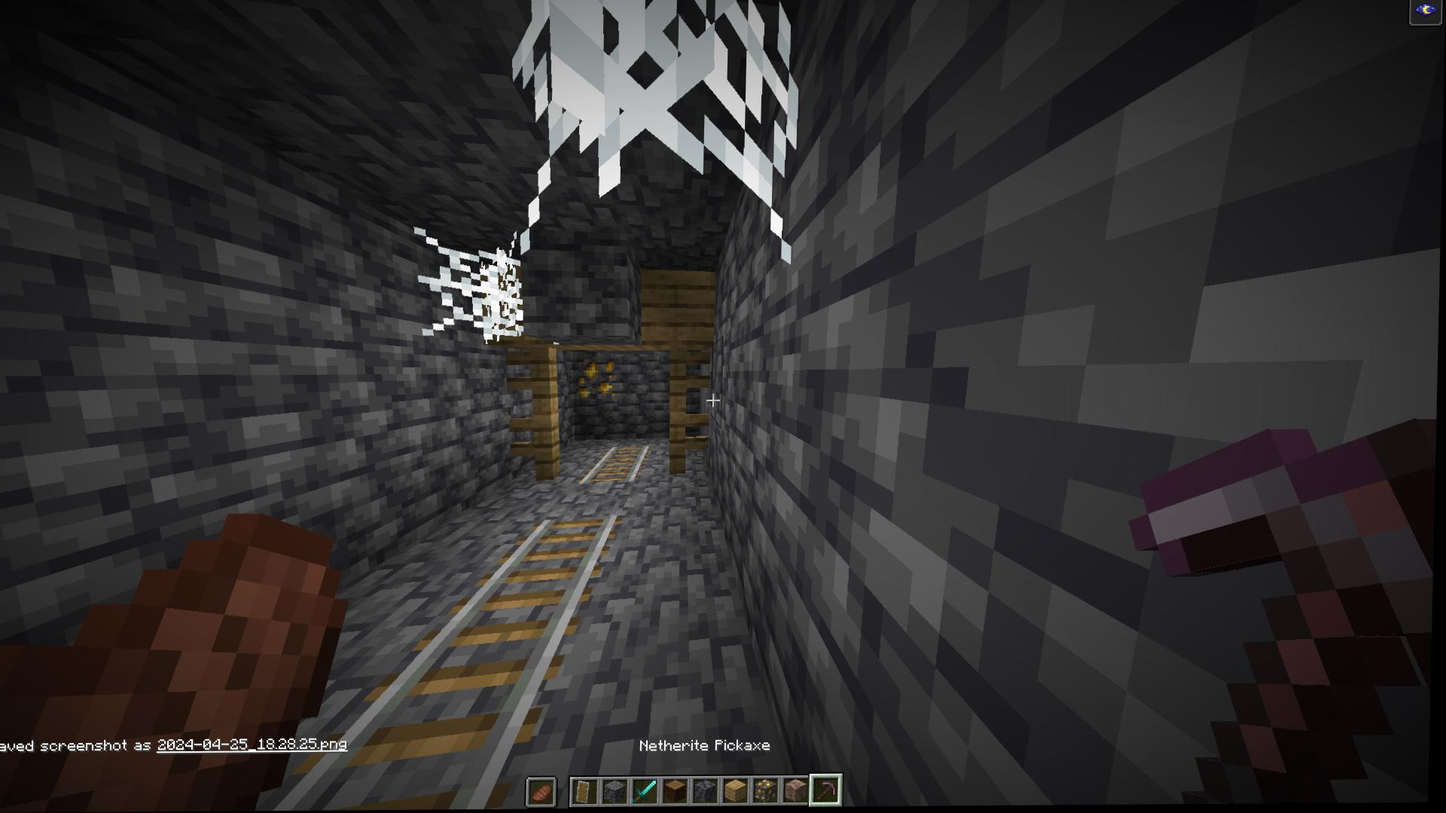gold ore: (572, 359, 620, 405)
